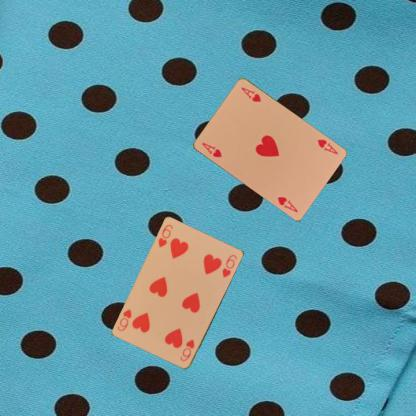6h: (177, 337, 196, 363), (155, 222, 174, 248)
Ah: (314, 136, 339, 156), (199, 140, 223, 159)
